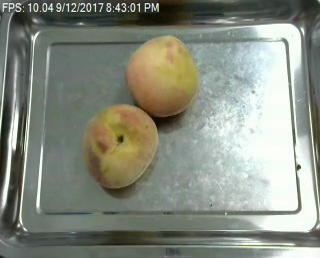Peach: (82, 103, 157, 189), (127, 34, 198, 116)
